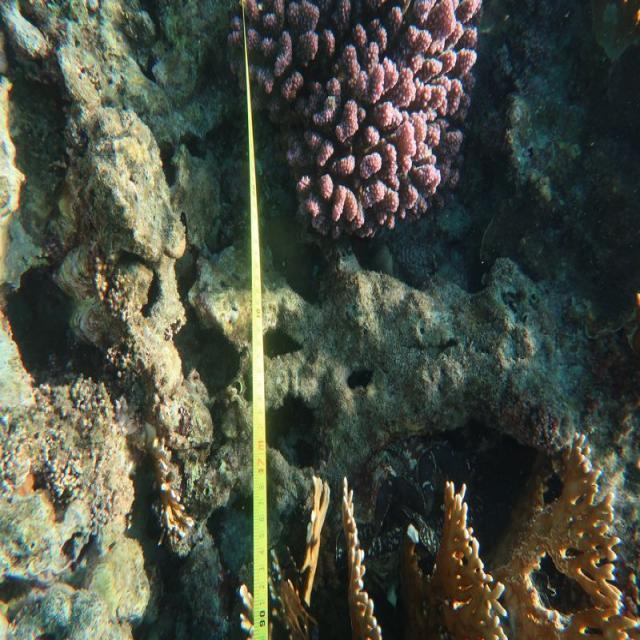Healthy Coral: (239, 1, 485, 250), (431, 445, 639, 640)
